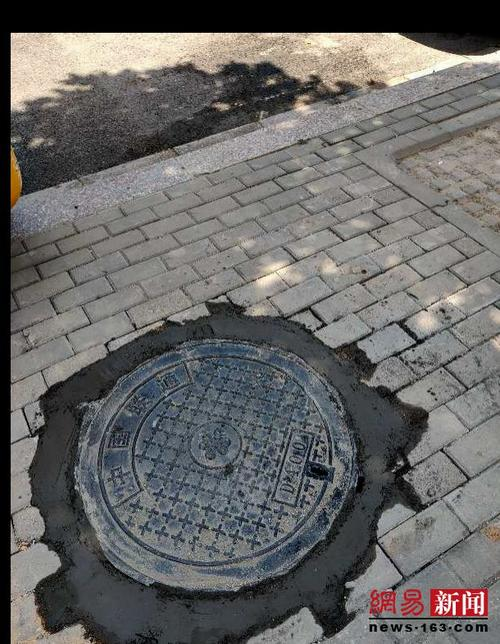good: (16, 293, 435, 635)
